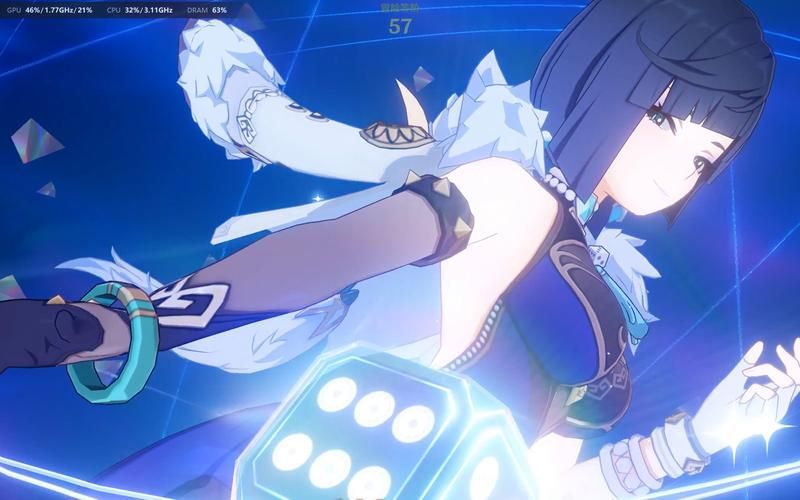夜兰: (1, 5, 800, 498)
